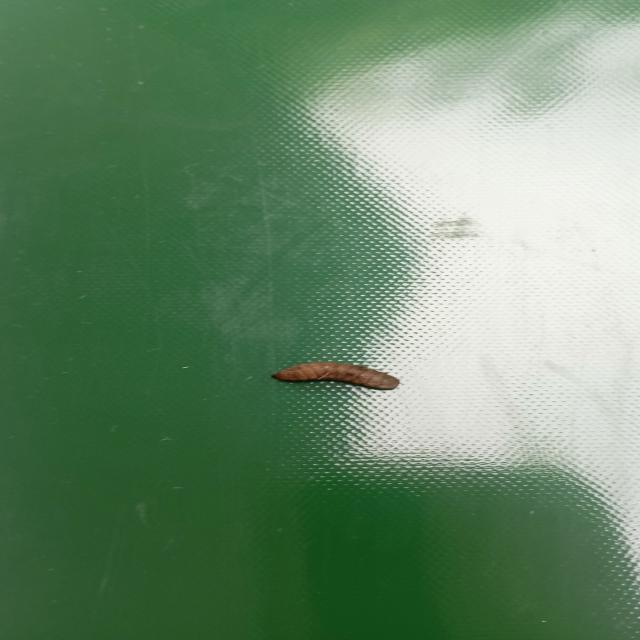Maggot: (271, 361, 401, 393)
